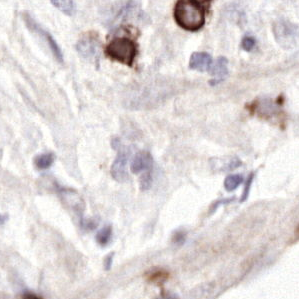Lymphocyte: (104, 36, 139, 67)
